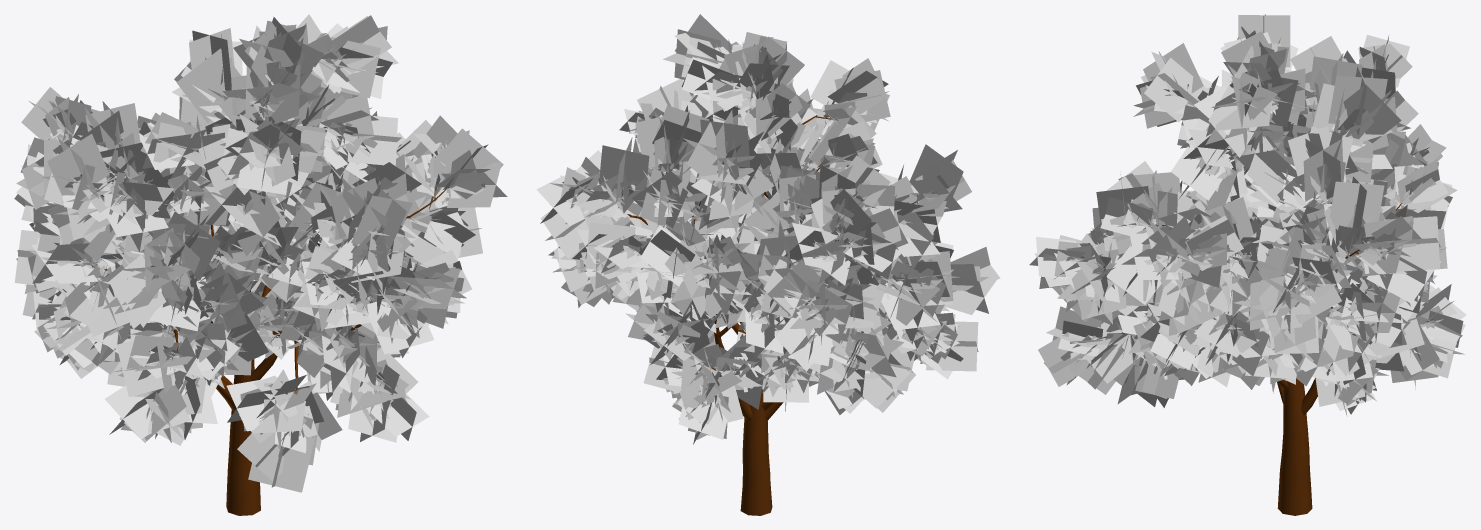
File: arvore4.glb
3 renders of one model, left to right at view 1: azimuth 30°, elevation 25°; view 2: azimuth 150°, elevation 25°; view 3: azimuth 270°, elevation 25°, orthographic. The views are drawn at different scales.
Parts seen in each view (by area): view 1: Mesh_0.003; view 2: Mesh_0.003; view 3: Mesh_0.003.
Part boxes in pixels (box(x1,y1,x2,y2)): Mesh_0.003: box(14, 14, 507, 515); Mesh_0.003: box(536, 14, 1000, 515); Mesh_0.003: box(1029, 14, 1466, 515).
Size of the model in its own units: 83.14 by 93.49 by 76.7.
